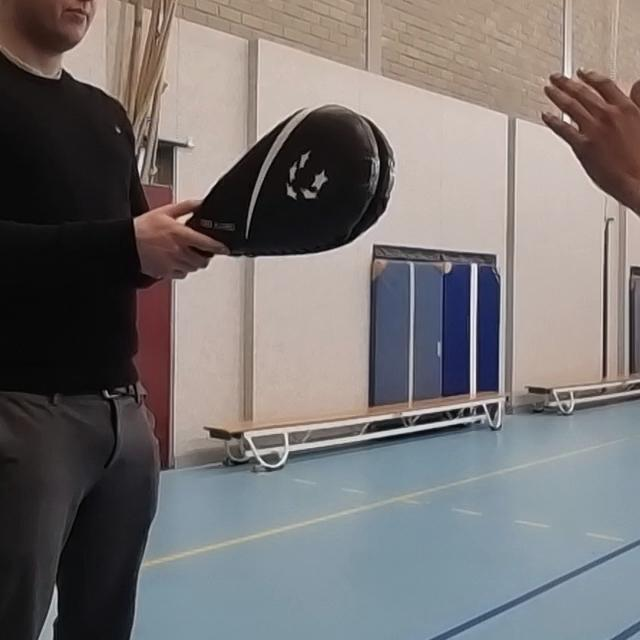paddle: (176, 103, 399, 257)
